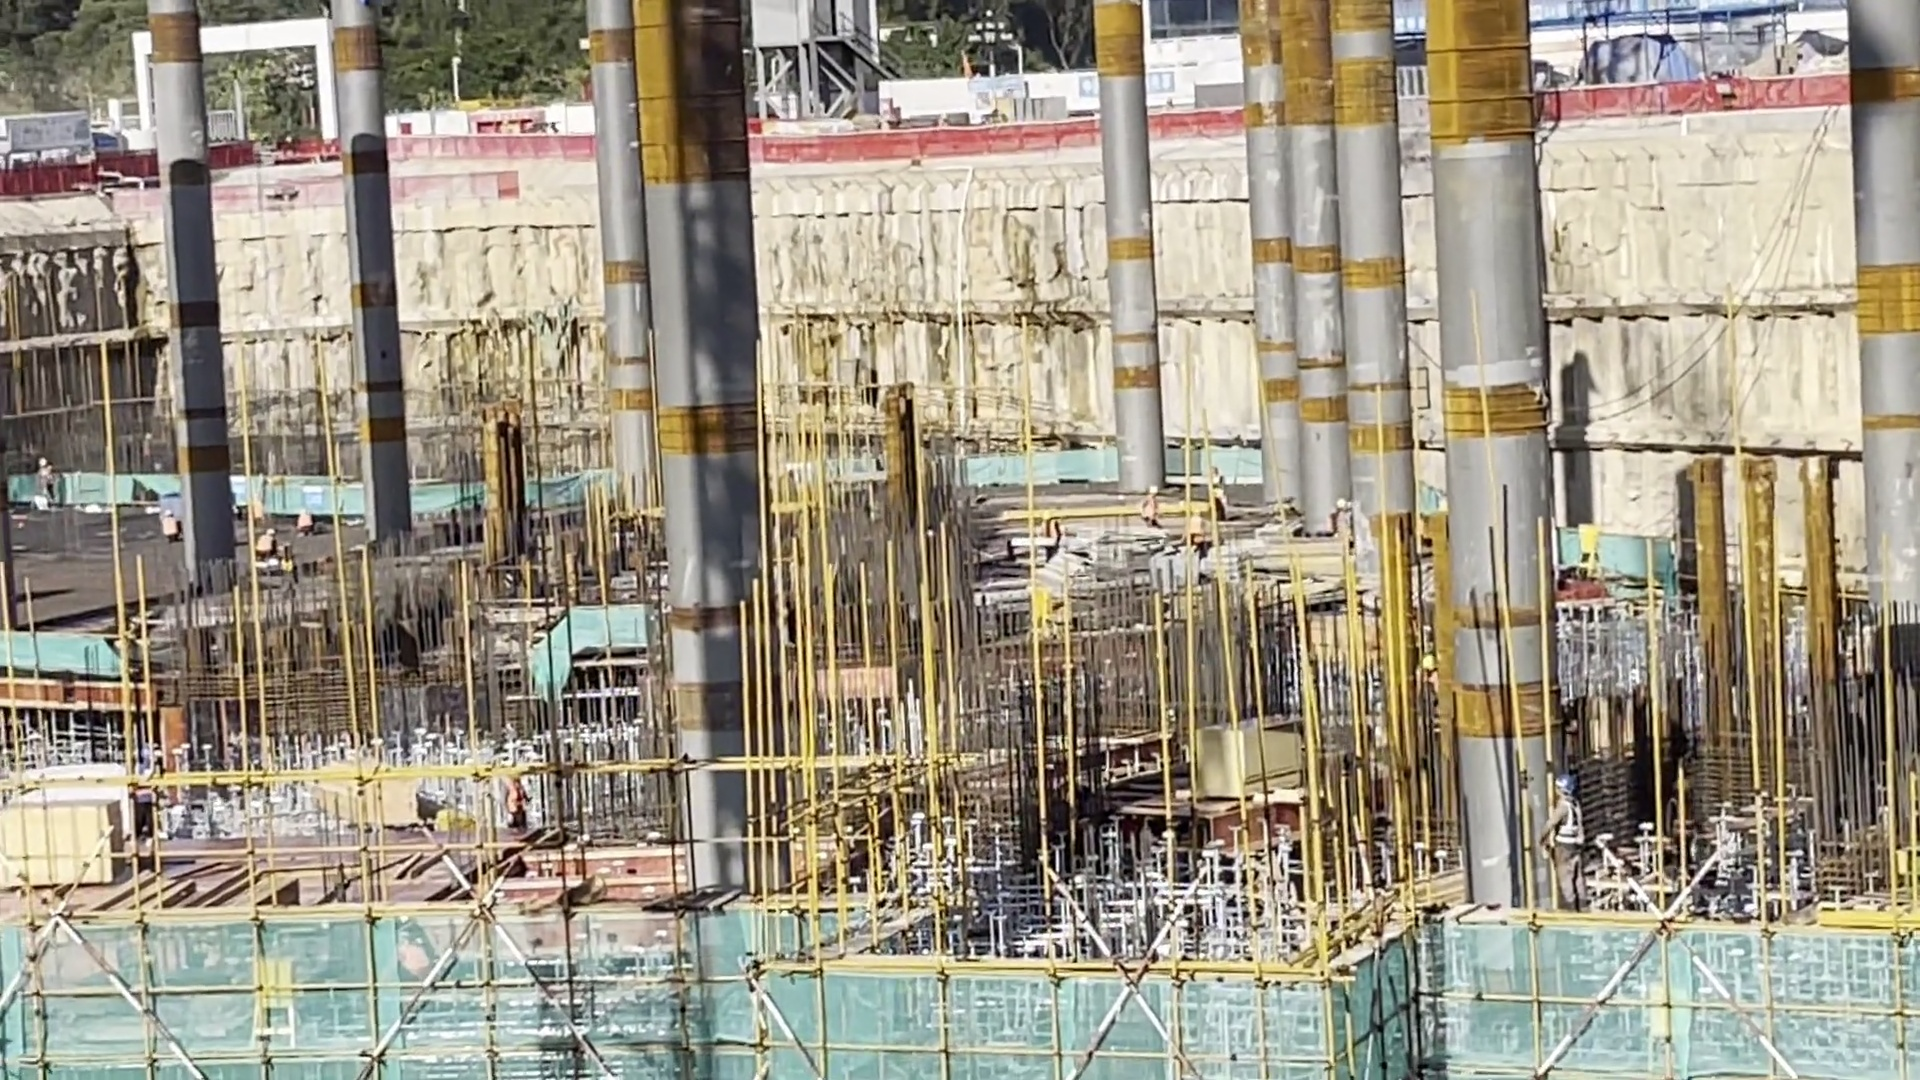helmet: (1556, 773, 1575, 792), (1423, 653, 1437, 671)
person: (1551, 777, 1588, 910)
vest: (1559, 808, 1579, 850)
